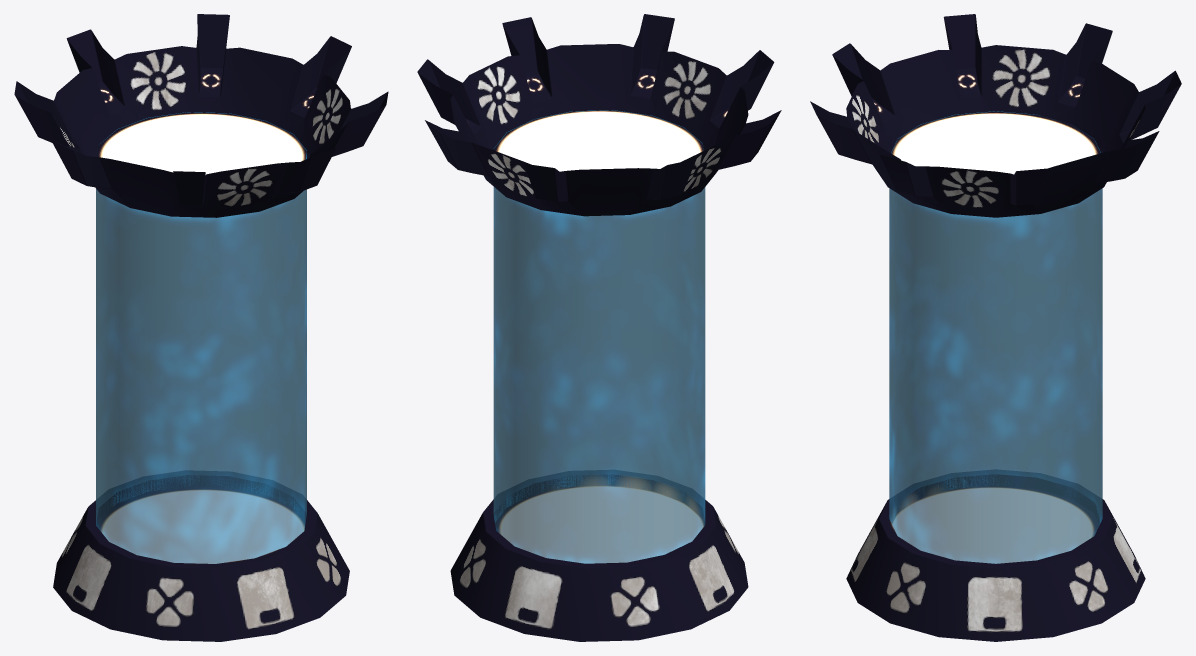
The model's file is chamber.glb.
The picture shows the model from 3 angles, left to right: view 1: azimuth 30°, elevation 25°; view 2: azimuth 150°, elevation 25°; view 3: azimuth 270°, elevation 25°; orthographic projection.
Parts seen in each view (by area): view 1: Sade_A_Pod_Large; view 2: Sade_A_Pod_Large; view 3: Sade_A_Pod_Large.
Boxes of the visible parts, box(x1,y1,x2,y2) form: Sade_A_Pod_Large: box(14, 14, 388, 641); Sade_A_Pod_Large: box(417, 14, 781, 641); Sade_A_Pod_Large: box(810, 14, 1181, 641).
Bounding box in the file's own units: 560 × 808 × 560.
2 materials, 2 textured.
